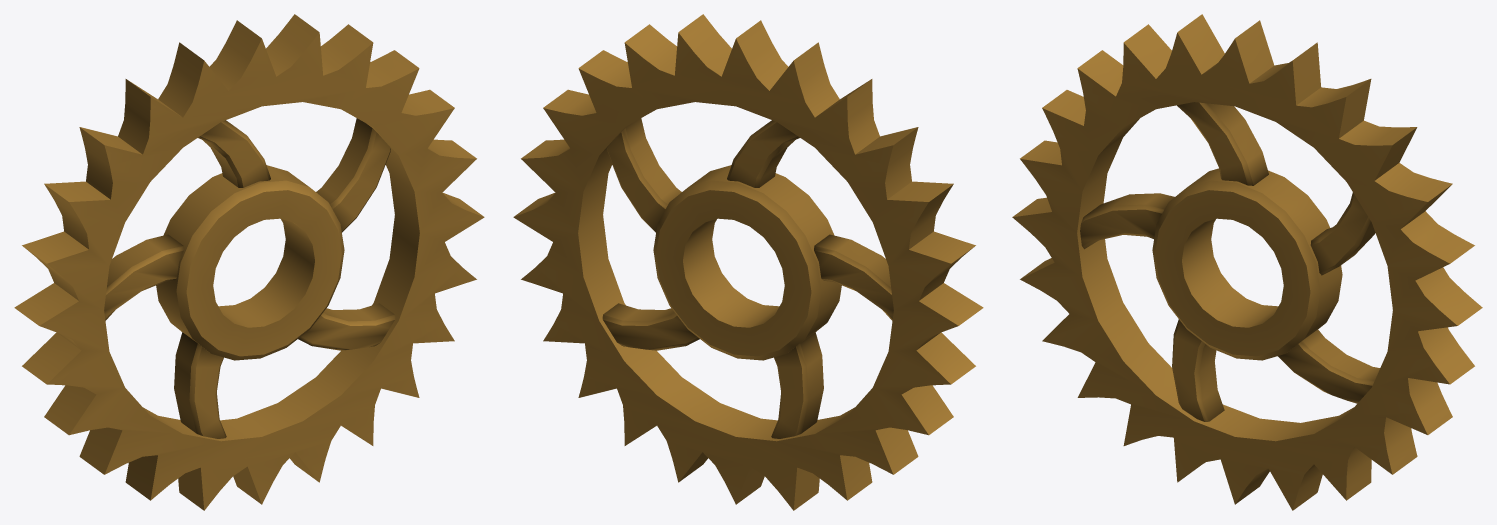
The model's file is escapement_wheel.glb.
The picture shows the model from 3 angles, left to right: view 1: azimuth 30°, elevation 25°; view 2: azimuth 150°, elevation 25°; view 3: azimuth 330°, elevation 25°; orthographic projection.
Parts seen in each view (by area): view 1: EscapeWheel; view 2: EscapeWheel; view 3: EscapeWheel.
Boxes of the visible parts, left/top/right/bottom form: EscapeWheel: left=14, top=14, right=484, bottom=510; EscapeWheel: left=513, top=14, right=983, bottom=510; EscapeWheel: left=1012, top=14, right=1482, bottom=510.
Size of the model in its own units: 0.035 by 0.035 by 0.004.
